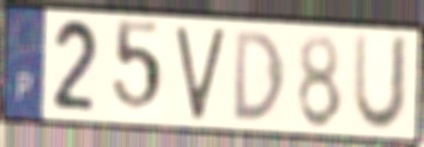2: (49, 13, 104, 121)
5: (110, 18, 165, 122)
8: (294, 30, 346, 130)
D: (232, 28, 288, 123)
U: (349, 30, 412, 136)
V: (173, 25, 228, 123)
